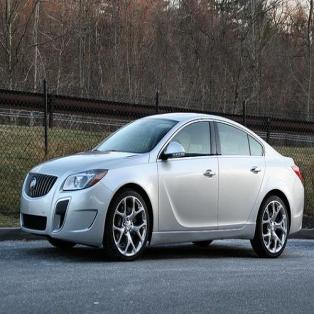Auto: (19, 111, 304, 262)
